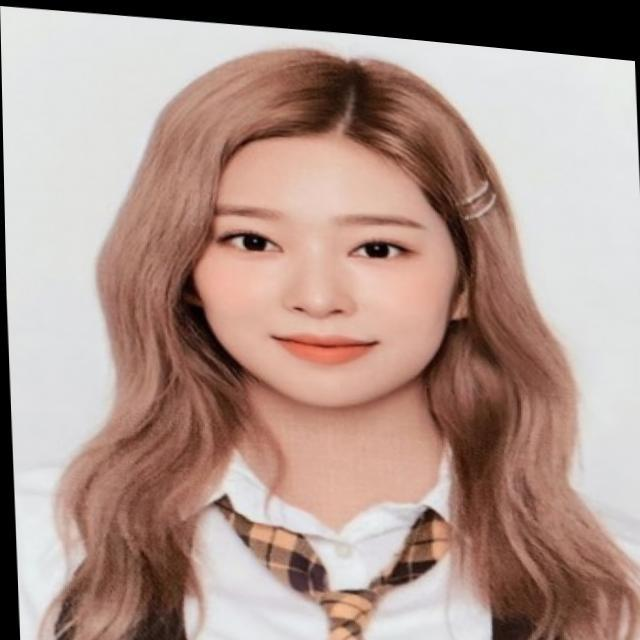Nonhelmet: (156, 33, 488, 415)
